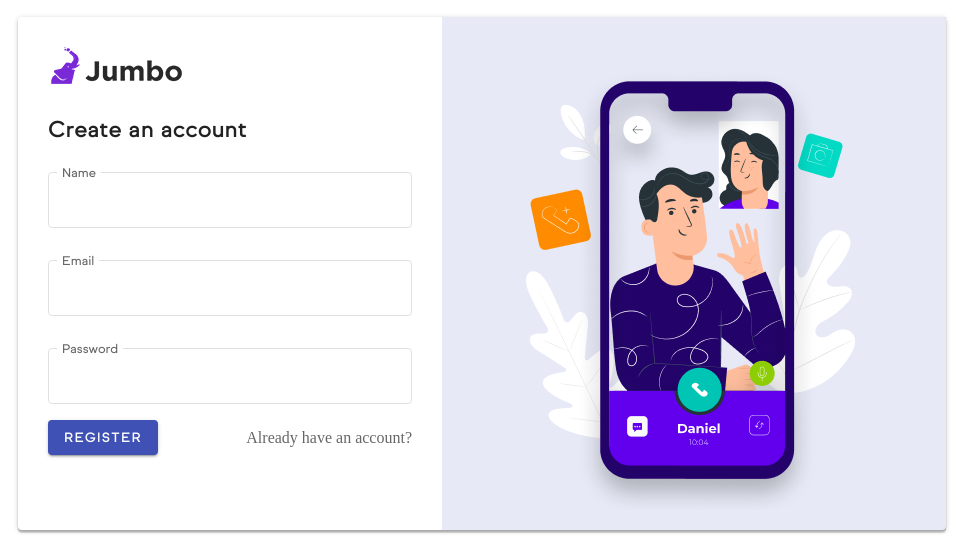
Test: <SignUp /> › shows error when filling invalid email input
The width and height of the screenshot is (965, 551).
Focus the field with test id "signUp_emailInput" at point(230, 288), box [48,260,412,316]
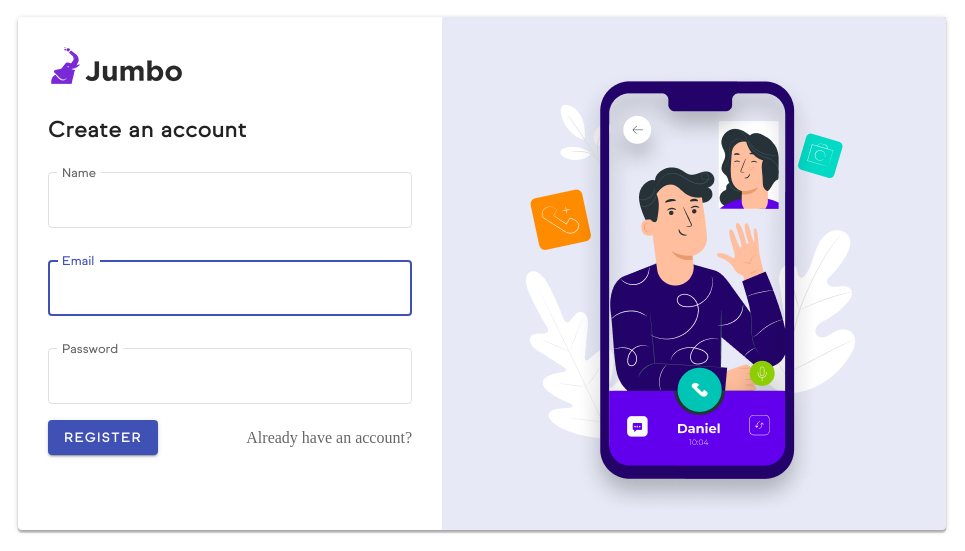
Leave the field with test id "signUp_emailInput", box [48,260,412,316]
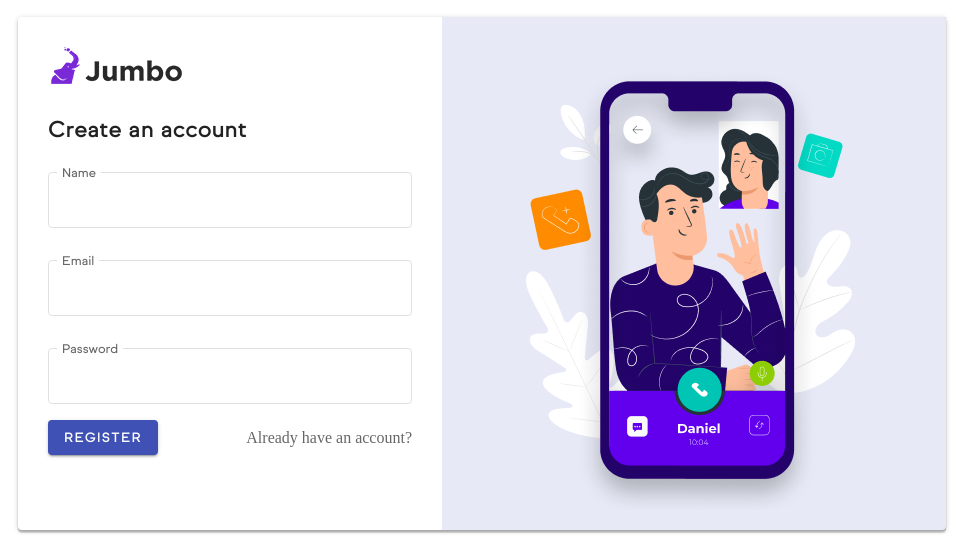
Type "invalidemail" into the field with test id "signUp_emailInput" at point(230, 288), box [48,260,412,316]
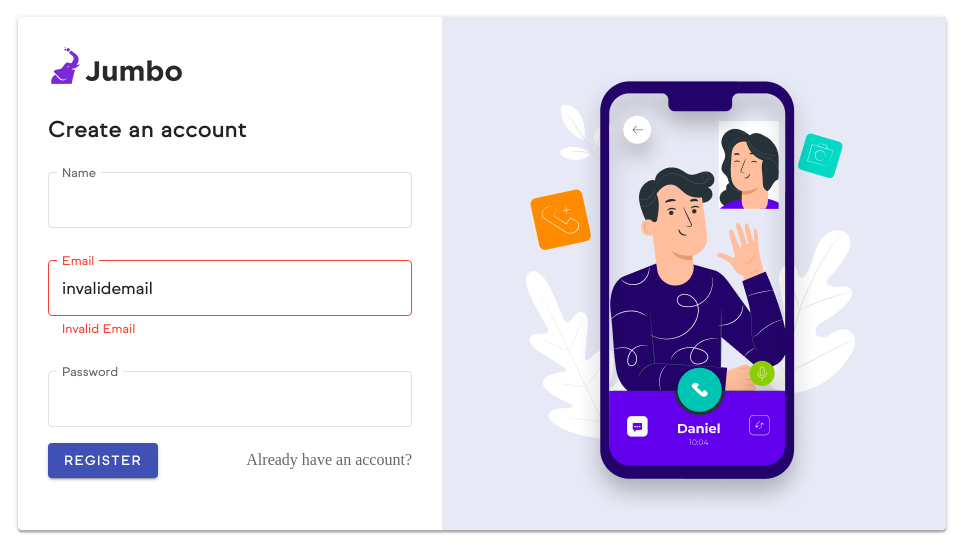
Now the text "Invalid Email" is shown, box [62,321,135,336]
